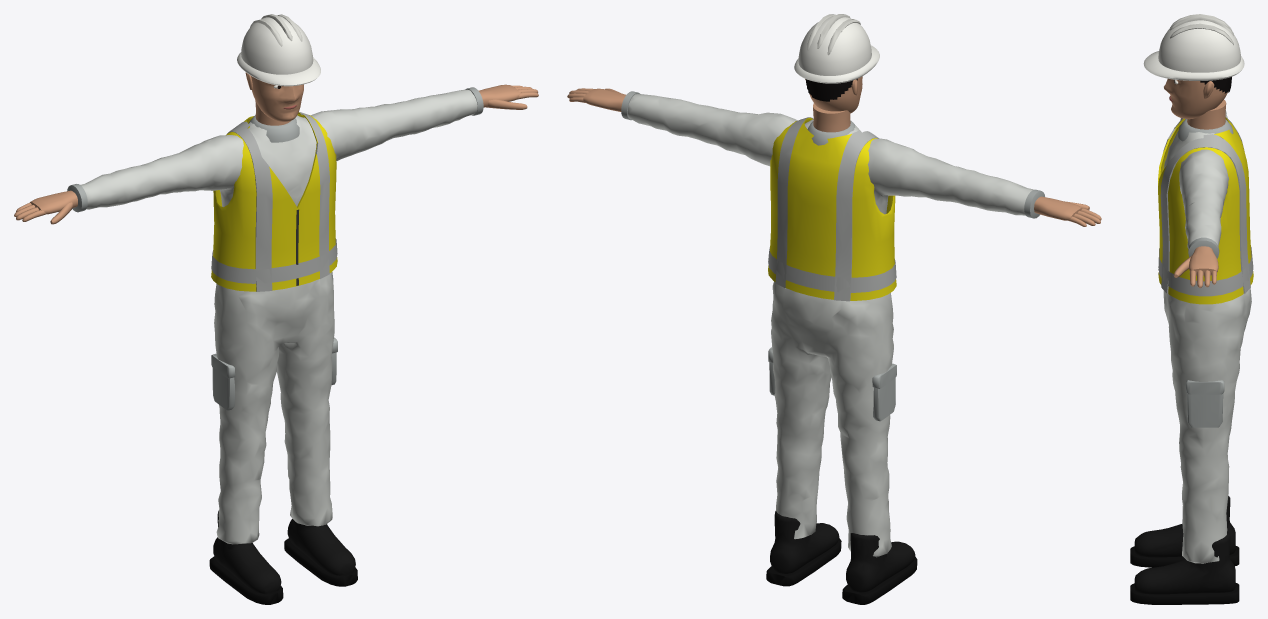
Rendered from 21.1 CONG NHAN A.fbx.
3 renders of one model, left to right at view 1: azimuth 30°, elevation 25°; view 2: azimuth 150°, elevation 25°; view 3: azimuth 270°, elevation 25°, orthographic.
Parts seen in each view (by area): view 1: CONG_NHAN_A; view 2: CONG_NHAN_A; view 3: CONG_NHAN_A.
Part boxes in pixels (x1,y1,x2,y2): CONG_NHAN_A: (14, 14, 538, 604); CONG_NHAN_A: (567, 14, 1101, 604); CONG_NHAN_A: (1130, 14, 1253, 604).
Size of the model in its own units: 1.82 by 1.84 by 0.3662.
1 material, 1 textured.
